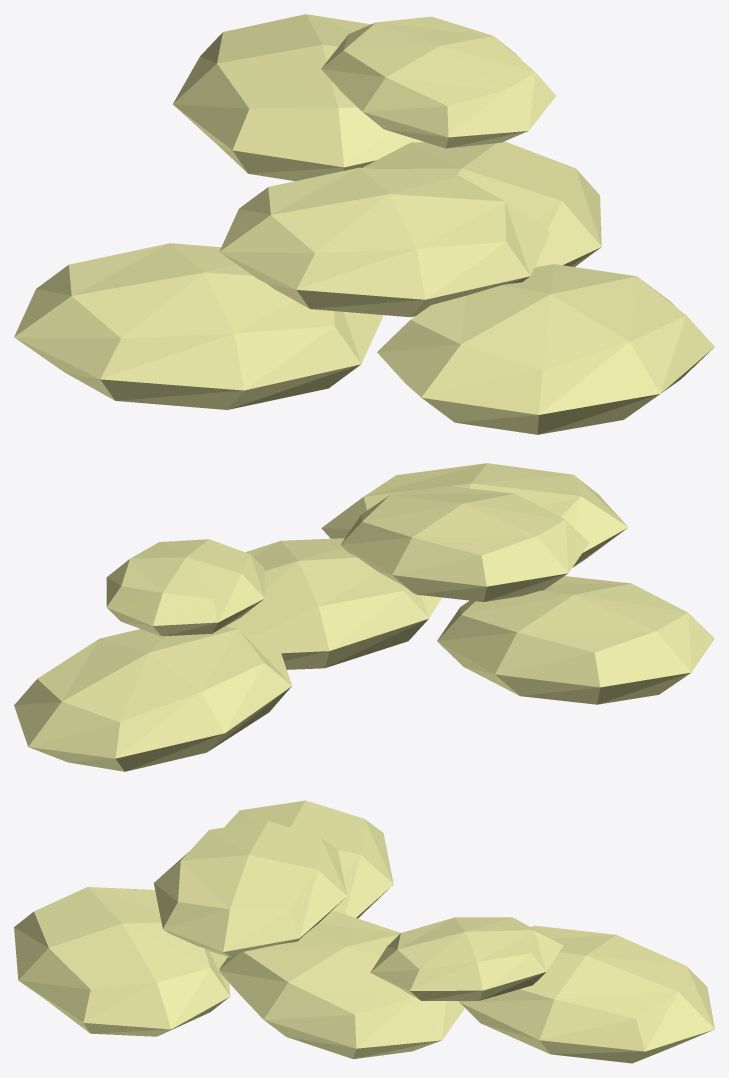
Rendered from seed.FBX.
The picture shows the model from 3 angles, top to bottom: view 1: azimuth 30°, elevation 25°; view 2: azimuth 150°, elevation 25°; view 3: azimuth 270°, elevation 25°; orthographic projection. The views are drawn at different scales.
Parts seen in each view (by area): view 1: seed; view 2: seed; view 3: seed.
Part boxes in pixels (<box>): seed: <box>14,14,714,434</box>; seed: <box>14,463,714,771</box>; seed: <box>14,800,714,1063</box>.
Size of the model in its own units: 56.41 by 14.41 by 74.89.
